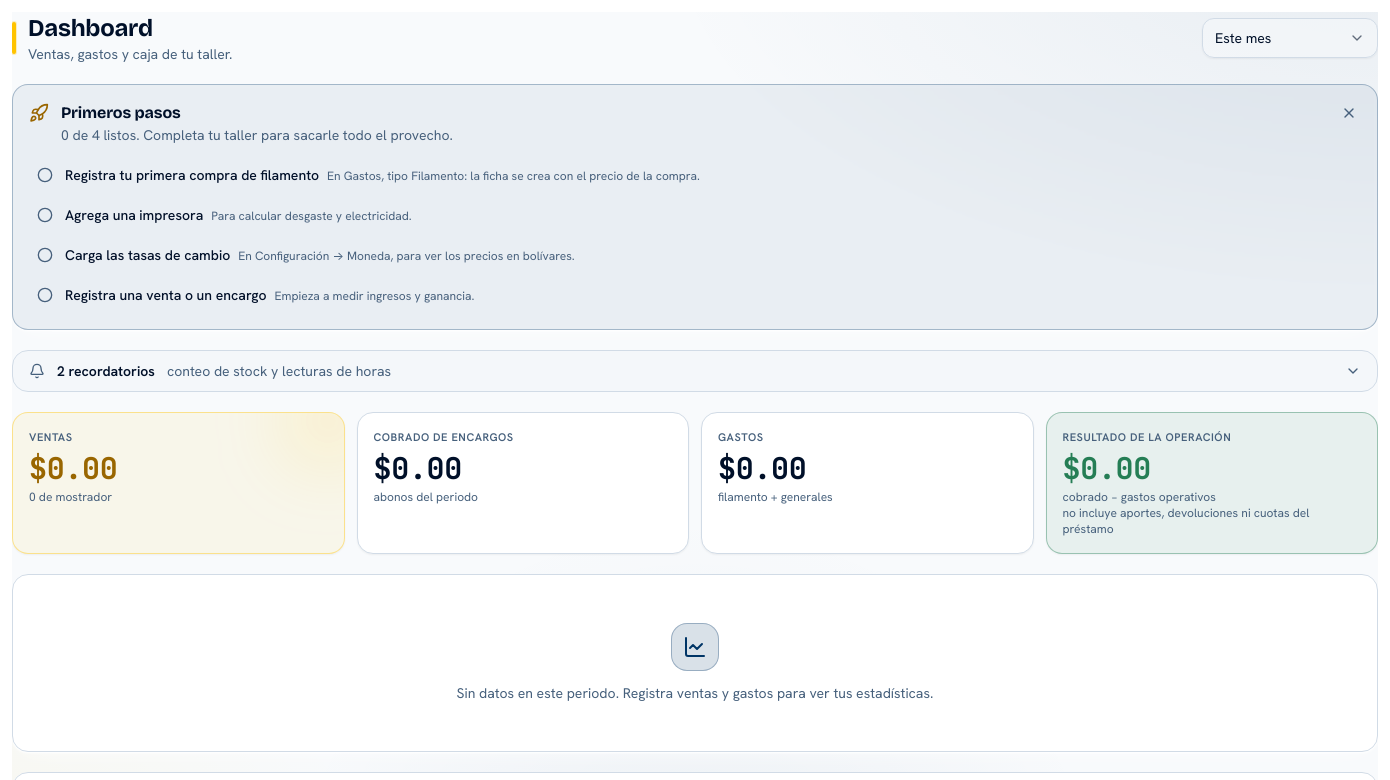
Test: Los dos recordatorios se colapsan en un renglón › desplegado, cada uno se descarta por su cuenta y el otro queda a la vista
This screenshot has width=1390, height=780.
Expected: the text "Sin datos en este periodo" is shown, [457, 684, 933, 702]
Step 1. Click the button "2 recordatorios conteo de stock y lecturas de horas" → x=110, y=371, box [12, 350, 1378, 392]
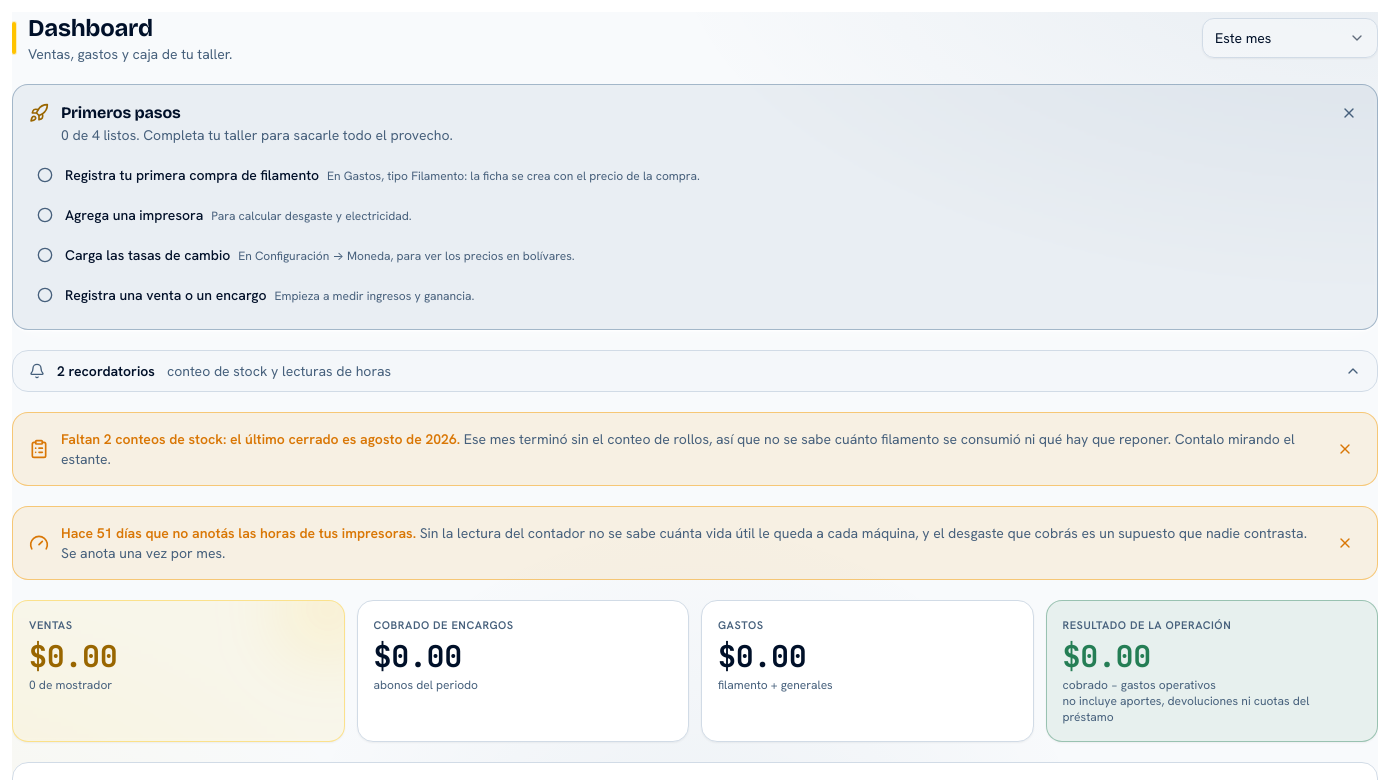
Step 2. Click the button named "Descartar el aviso del conteo de octubre de 2026" → x=1345, y=449, box [1329, 433, 1361, 465]
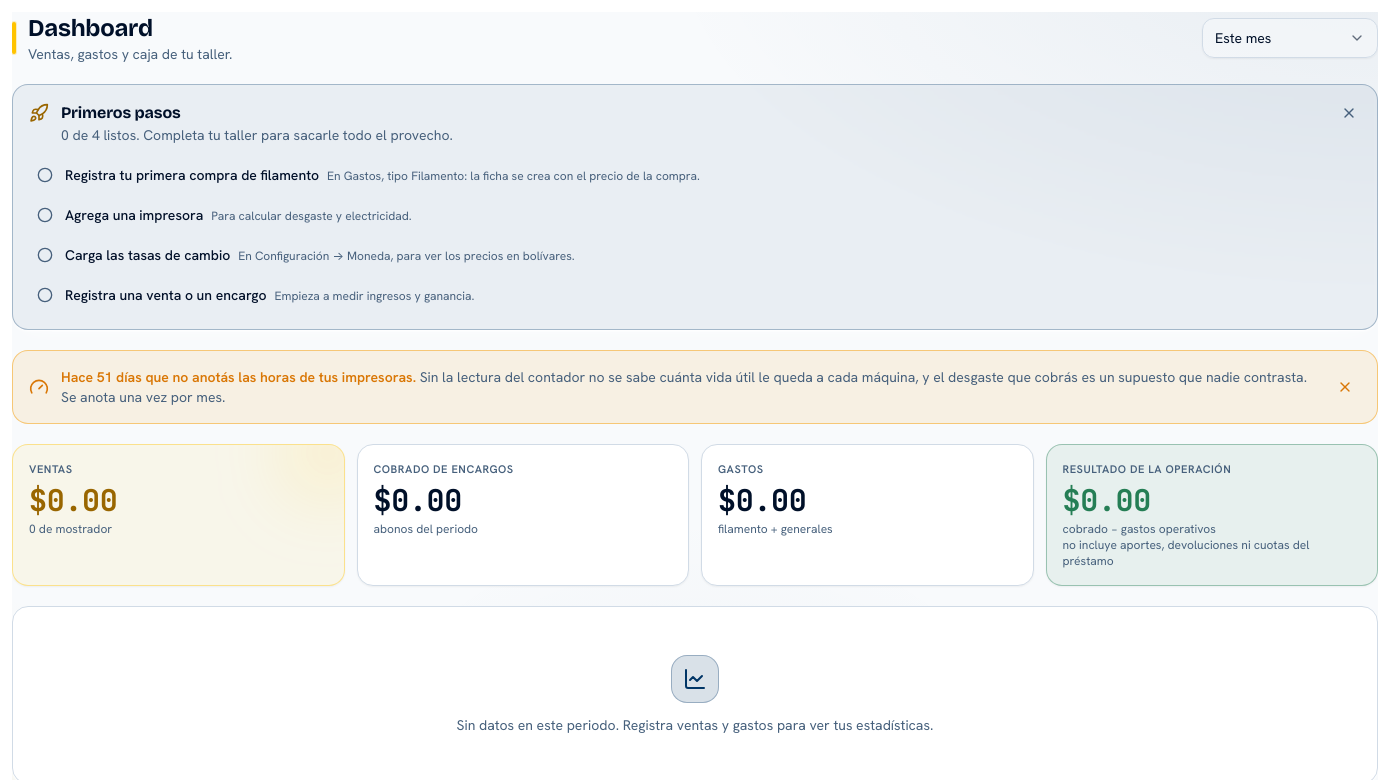
Expected: the text "Hace 51 días que no anotás las horas de tus impresoras." is shown, [61, 368, 416, 386]
Expected: the link "conteo de rollos" is gone
Expected: the button "recordatorios" is gone
